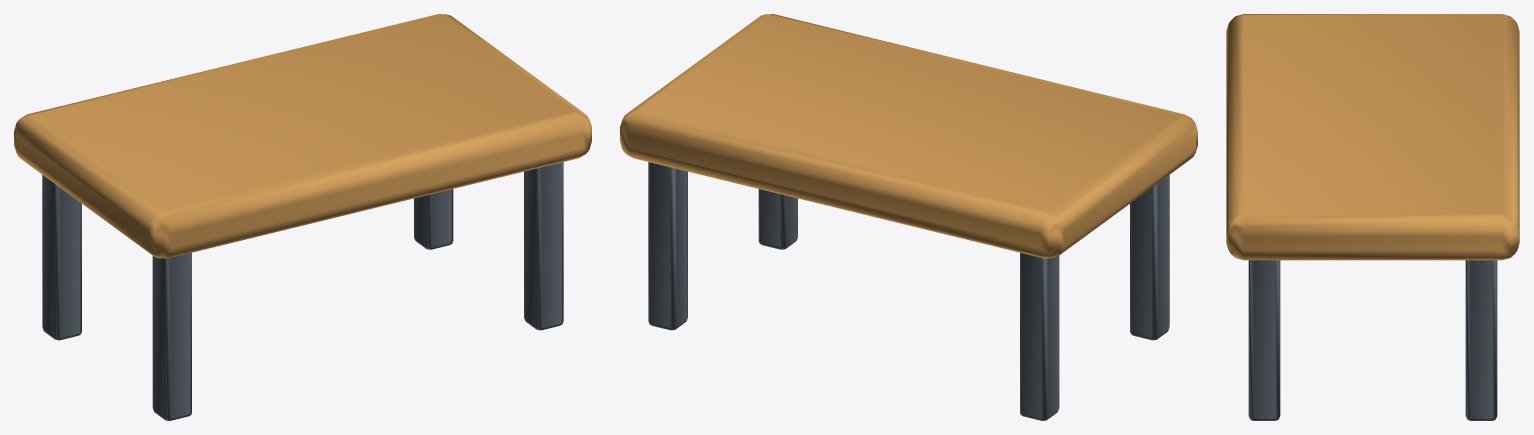
Rendered from home-coffee-table.glb.
3 views of the same model, side by side, from view 1: azimuth 30°, elevation 25°; view 2: azimuth 150°, elevation 25°; view 3: azimuth 270°, elevation 25° (orthographic).
Parts seen in each view (by area): view 1: interior_3_woodLight, interior_3_metal; view 2: interior_3_woodLight, interior_3_metal; view 3: interior_3_woodLight, interior_3_metal.
Part boxes in pixels (bbox=[...]): interior_3_woodLight: bbox=[14, 14, 591, 258]; interior_3_metal: bbox=[42, 162, 563, 420]; interior_3_woodLight: bbox=[620, 14, 1197, 258]; interior_3_metal: bbox=[648, 162, 1169, 420]; interior_3_woodLight: bbox=[1226, 14, 1519, 260]; interior_3_metal: bbox=[1248, 260, 1497, 420].
Bounding box in the file's own units: 1.2 × 0.56 × 0.7.
